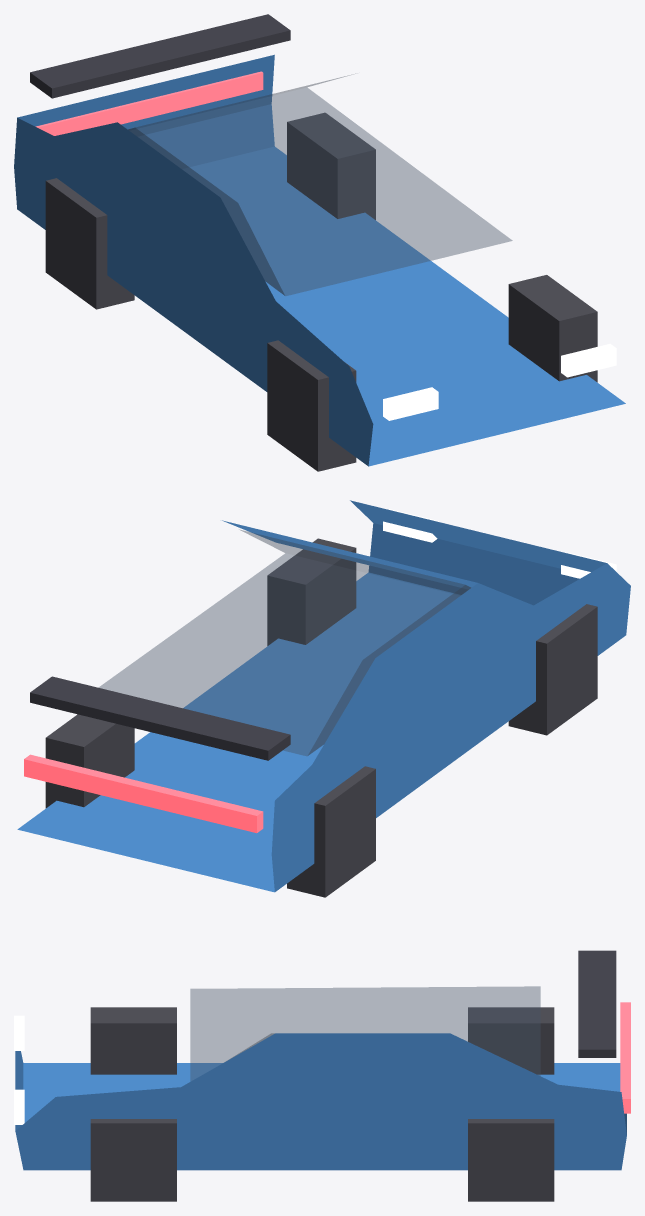
File: bmw.glb
3 renders of one model, top to bottom at view 1: azimuth 30°, elevation 25°; view 2: azimuth 150°, elevation 25°; view 3: azimuth 270°, elevation 25°, orthographic. The views are drawn at different scales.
Parts seen in each view (by area): view 1: sedan_body, cabin_glass, spoiler, wheel_3, wheel_2, wheel_0, wheel_1, taillight, headlight_R, headlight_L; view 2: sedan_body, cabin_glass, spoiler, wheel_1, wheel_0, wheel_2, taillight, wheel_3, headlight_R; view 3: sedan_body, cabin_glass, wheel_1, wheel_3, wheel_0, wheel_2, spoiler, taillight, headlight_L, headlight_R.
Part boxes in pixels (x1,y1,x2,y2): sedan_body: (14,54,625,466); cabin_glass: (128,75,512,295); spoiler: (30,14,290,98); wheel_3: (287,112,375,219); wheel_2: (45,178,134,309); wheel_0: (267,340,356,471); wheel_1: (508,275,597,382); taillight: (35,71,263,135); headlight_R: (561,343,616,377); headlight_L: (383,387,438,420); sedan_body: (17,500,630,892); cabin_glass: (99,530,470,755); spoiler: (30,676,290,760); wheel_1: (267,538,356,645); wheel_0: (508,604,597,735); wheel_2: (287,766,375,897); taillight: (24,754,263,833); wheel_3: (45,714,134,808); headlight_R: (383,509,438,542); sedan_body: (15,1033,626,1170); cabin_glass: (190,986,540,1081); wheel_1: (90,1119,176,1201); wheel_3: (468,1119,554,1201); wheel_0: (90,1007,176,1074); wheel_2: (468,1007,554,1074); spoiler: (578,950,616,1057); taillight: (620,1002,630,1113); headlight_L: (14,1015,24,1050); headlight_R: (14,1089,24,1124).
Size of the model in its own units: 2.04 by 1.34 by 4.58.
